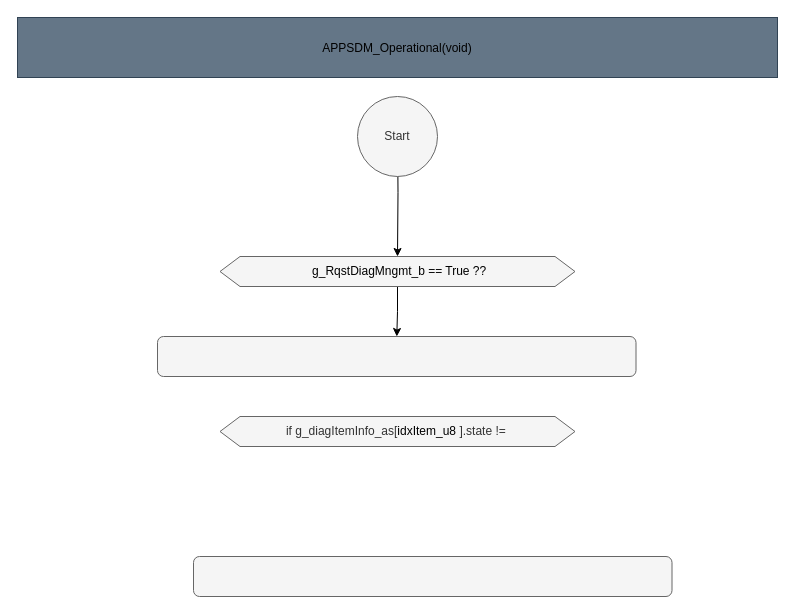
The diagram is 795 pixels wide and 614 high, and some of its shapes have lost their labels. Here are the shapes that lost their labels. From the top down, the centre of each, then its label:
At (396,356): "loop idxItem_u8 < APPSDM_MAX_DIAG_ITEM_MONITORING".
At (432,576): "loop idxItem_e < APPSDM_MAX_DIAG_ITEM_MONITORING".
